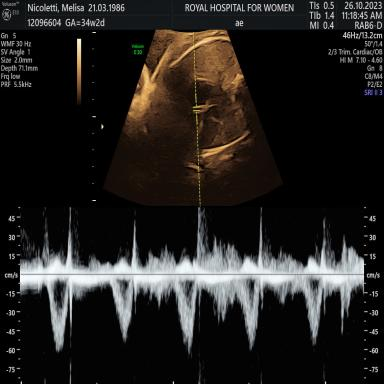Ultrasound-Waves: (26, 206, 362, 384)
